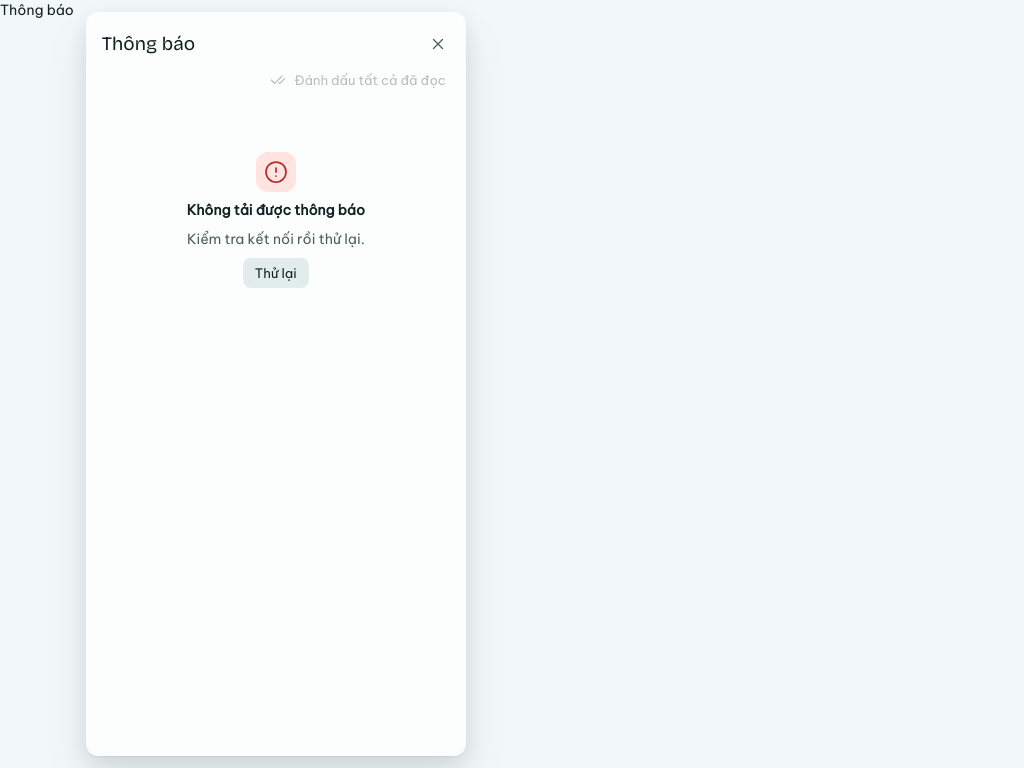
Test: NotificationPanel › says what failed and retries
Expected: the text "Không tải được thông báo" is shown, [187,200,365,221]
Click the button "Thử lại" at {"x": 276, "y": 273}, box [243,258,309,288]
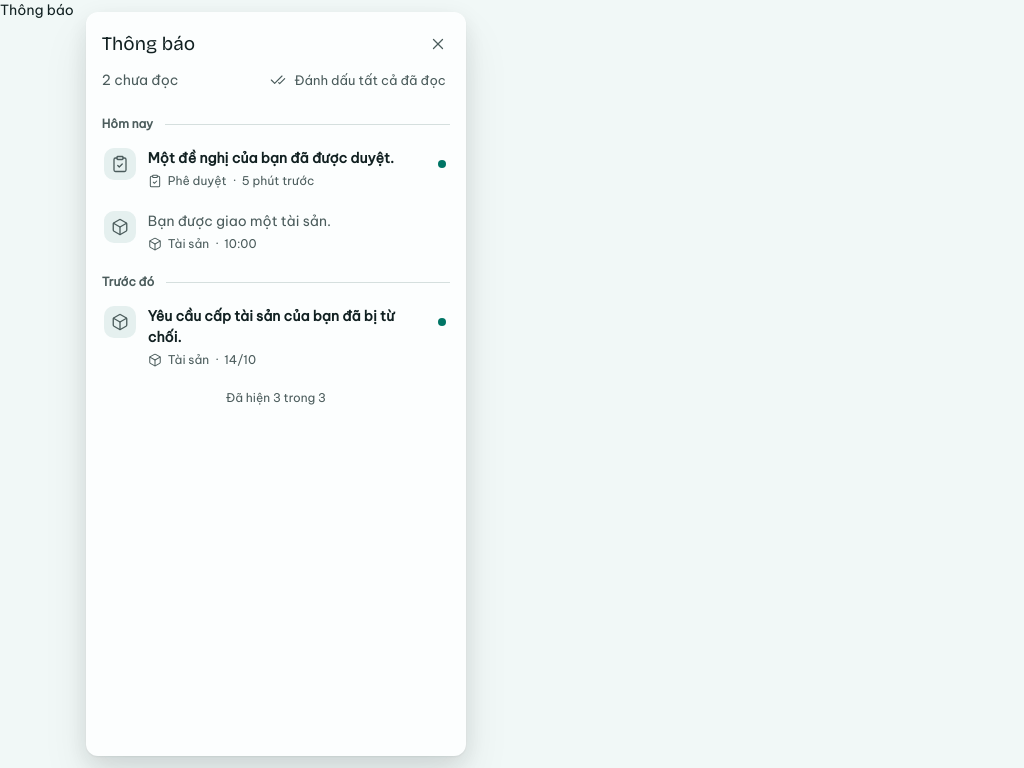
Result: the text "Một đề nghị của bạn đã được duyệt." is shown at [148,148,422,169]
